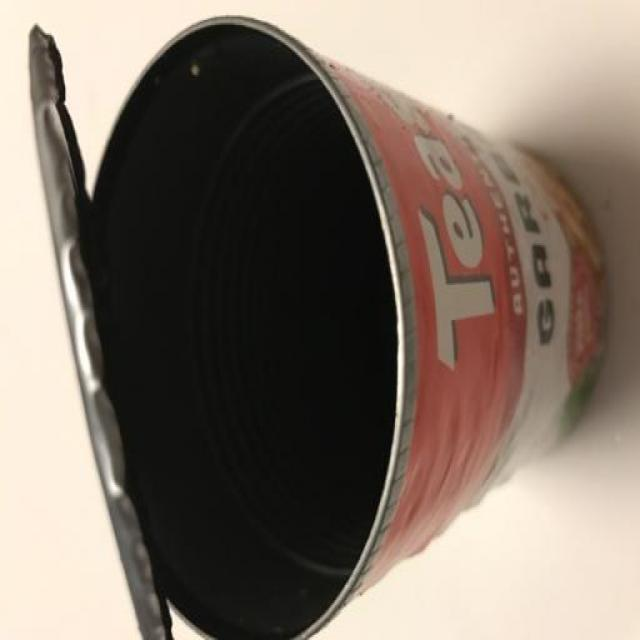metel: (26, 6, 640, 640)
